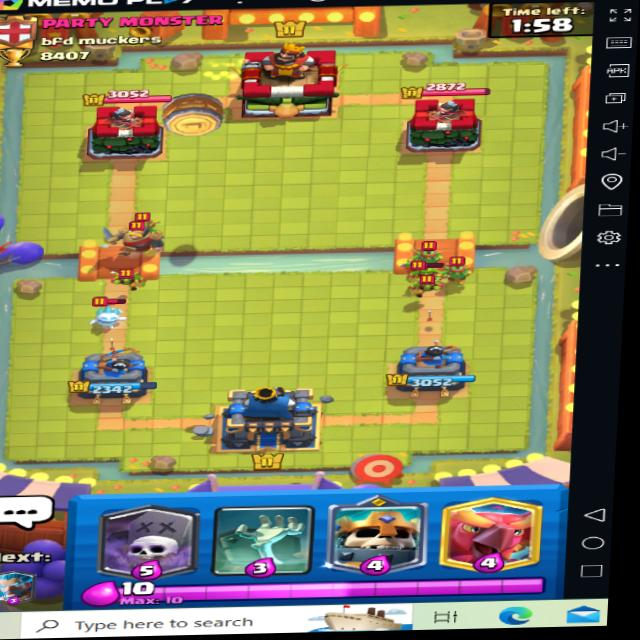goblin: (112, 261, 155, 295), (400, 261, 445, 289), (408, 278, 448, 299)
goblin-barrel: (159, 88, 238, 146)
ice-spirit: (92, 292, 138, 329)
knight: (105, 218, 169, 258)
spear-goblin: (442, 252, 498, 288), (400, 232, 445, 265), (129, 211, 162, 235)
